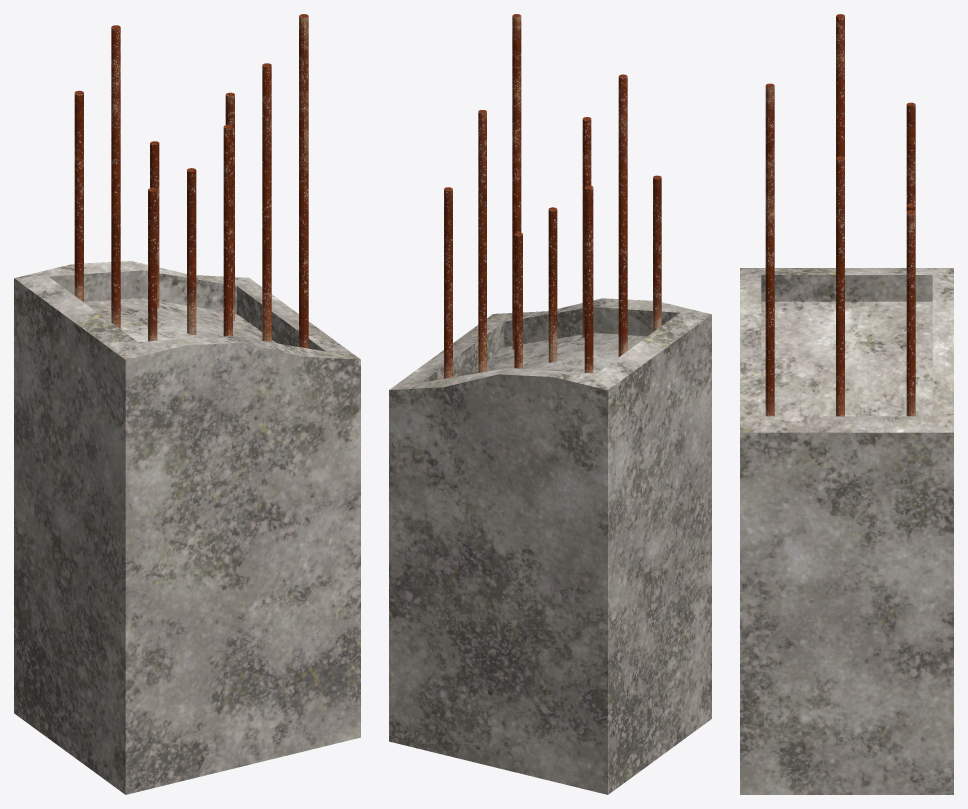
File: rust.fbx
3 renders of one model, left to right at view 1: azimuth 30°, elevation 25°; view 2: azimuth 150°, elevation 25°; view 3: azimuth 270°, elevation 25°, orthographic. The views are drawn at different scales.
Parts seen in each view (by area): view 1: pasted__pCube9, pasted__pCylinder10; view 2: pasted__pCube9, pasted__pCylinder10; view 3: pasted__pCube9, pasted__pCylinder10.
Part boxes in pixels (left/top/right/bottom): pasted__pCube9: left=14, top=261, right=360, bottom=794; pasted__pCylinder10: left=74, top=14, right=308, bottom=348; pasted__pCube9: left=389, top=298, right=711, bottom=794; pasted__pCylinder10: left=444, top=14, right=661, bottom=378; pasted__pCube9: left=740, top=268, right=953, bottom=794; pasted__pCylinder10: left=765, top=14, right=915, bottom=416.
Size of the model in its own units: 58.42 by 171 by 48.
1 material, 1 textured.
